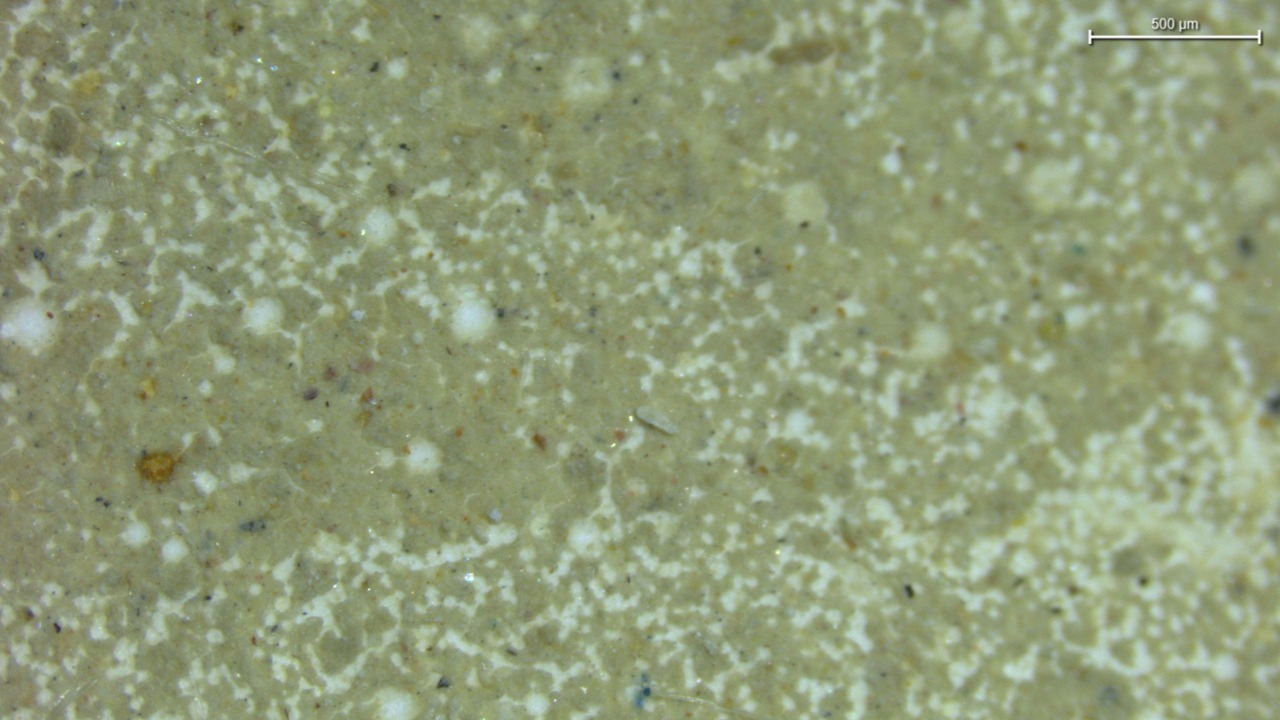microplastic_fragment: (634, 406, 678, 435)
